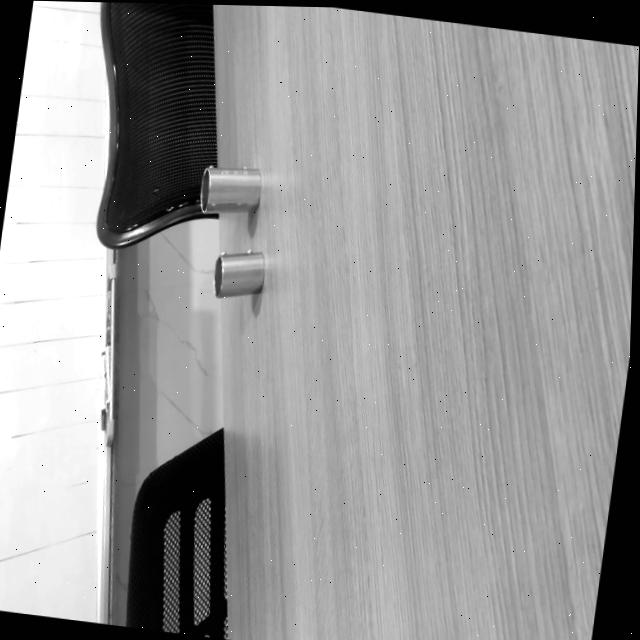Co_Lon: (199, 166, 260, 214)
Co_Nho: (209, 247, 267, 298)
